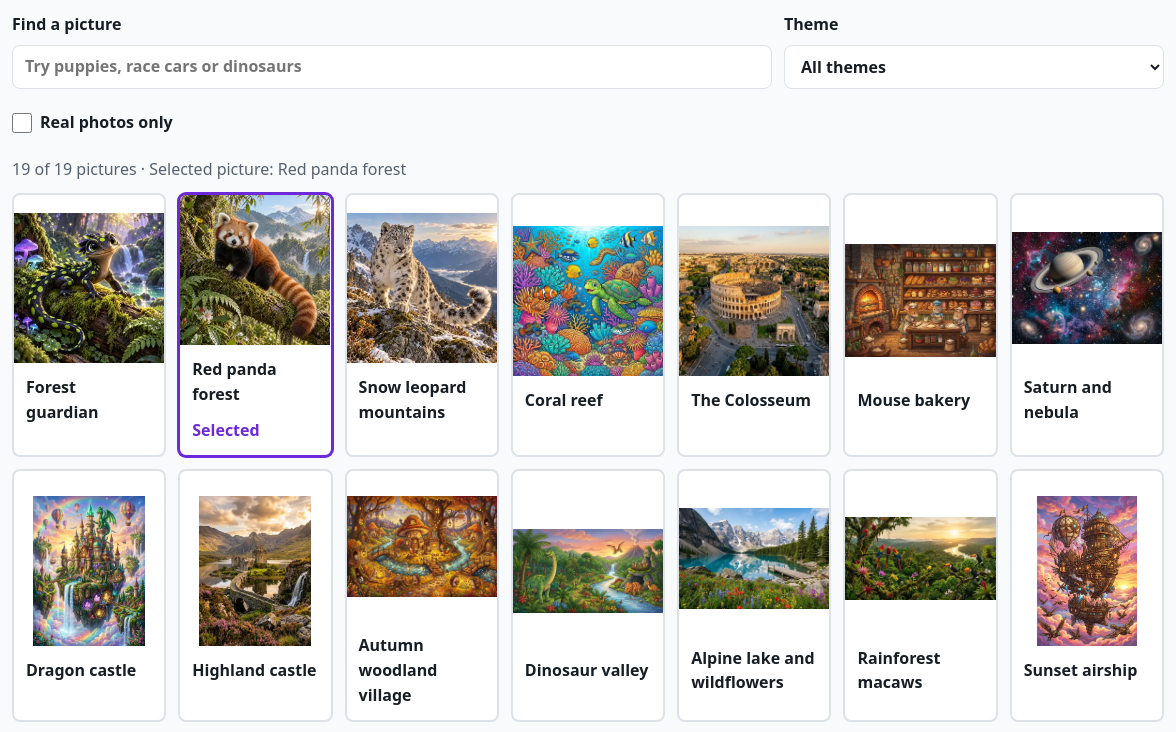
Test: combines theme and case-insensitive search without changing the chosen picture
Select "Animals" in the dropdown labelled "Theme". click: (974, 67)
box: top-left (784, 45), bottom-right (1164, 89)
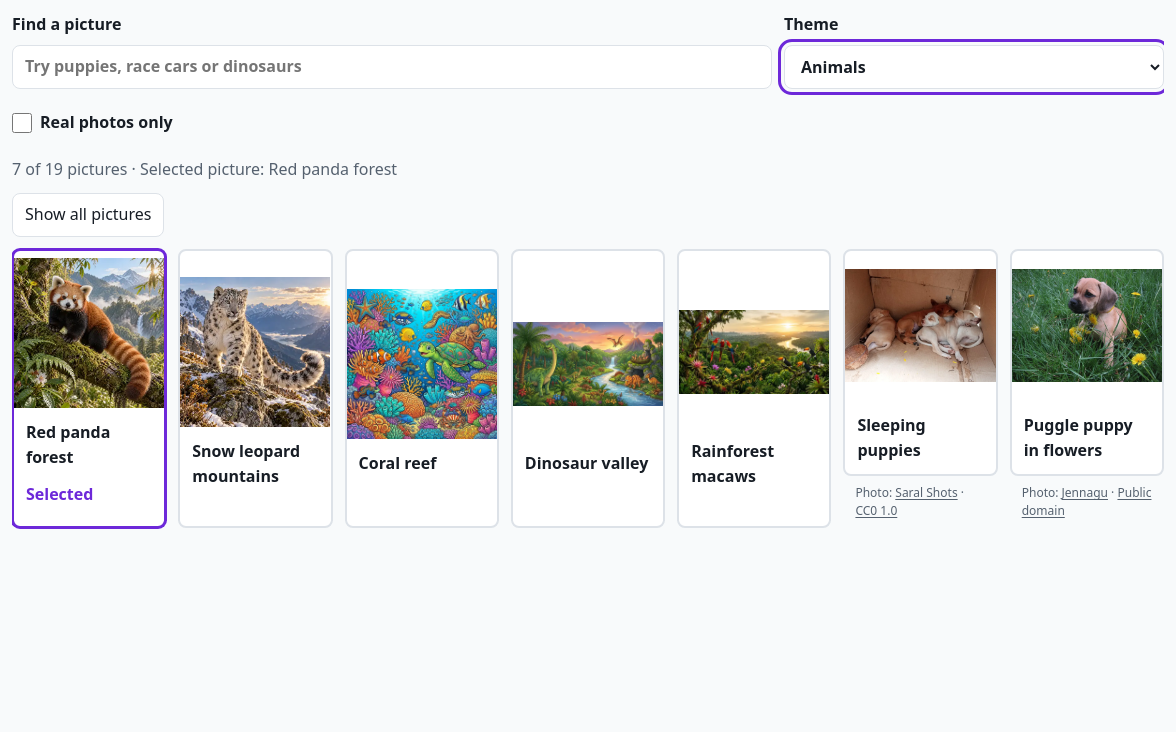
Type "  DINOSAUR  " into the search field labelled "Find a picture". click: (392, 67)
box: top-left (12, 45), bottom-right (772, 89)
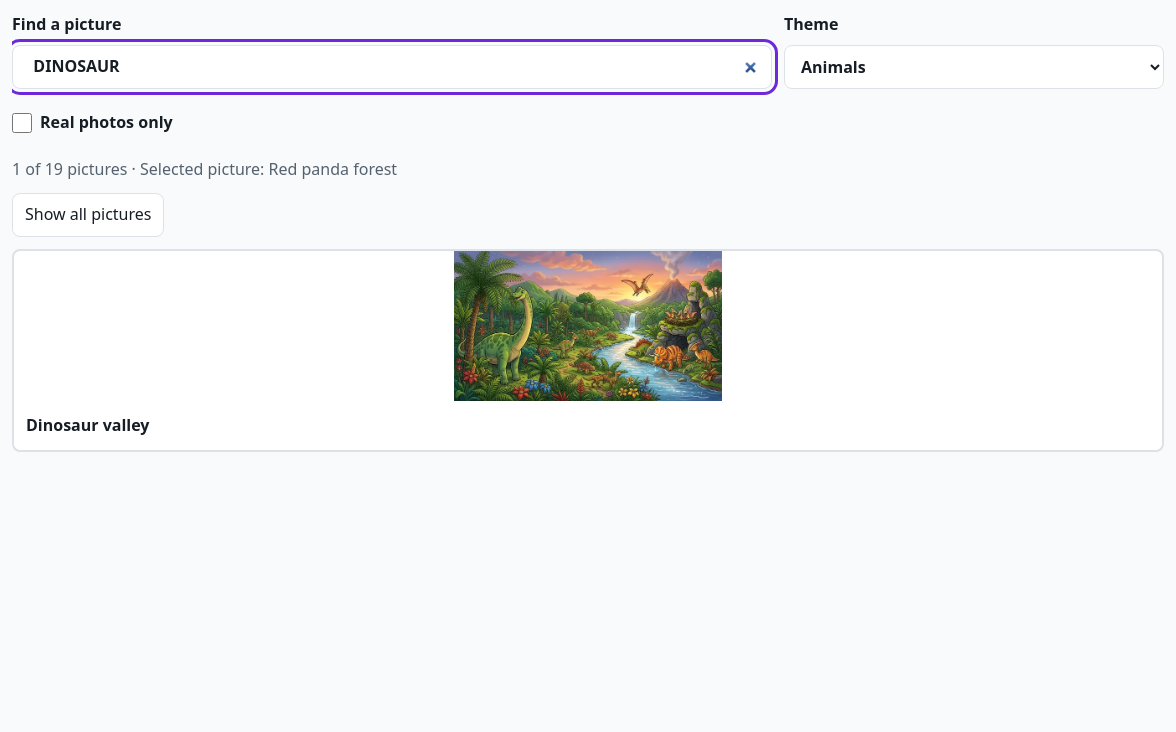
Expected: the text "1 of 19 pictures · Selected picture: Red panda forest" is shown, top-left (12, 158), bottom-right (397, 180)
Result: the number of buttons named "Choose " is 1 at top-left (12, 249), bottom-right (1164, 452)
Select "Space" in the dropdown labelled "Theme". click: (974, 67)
box: top-left (784, 45), bottom-right (1164, 89)
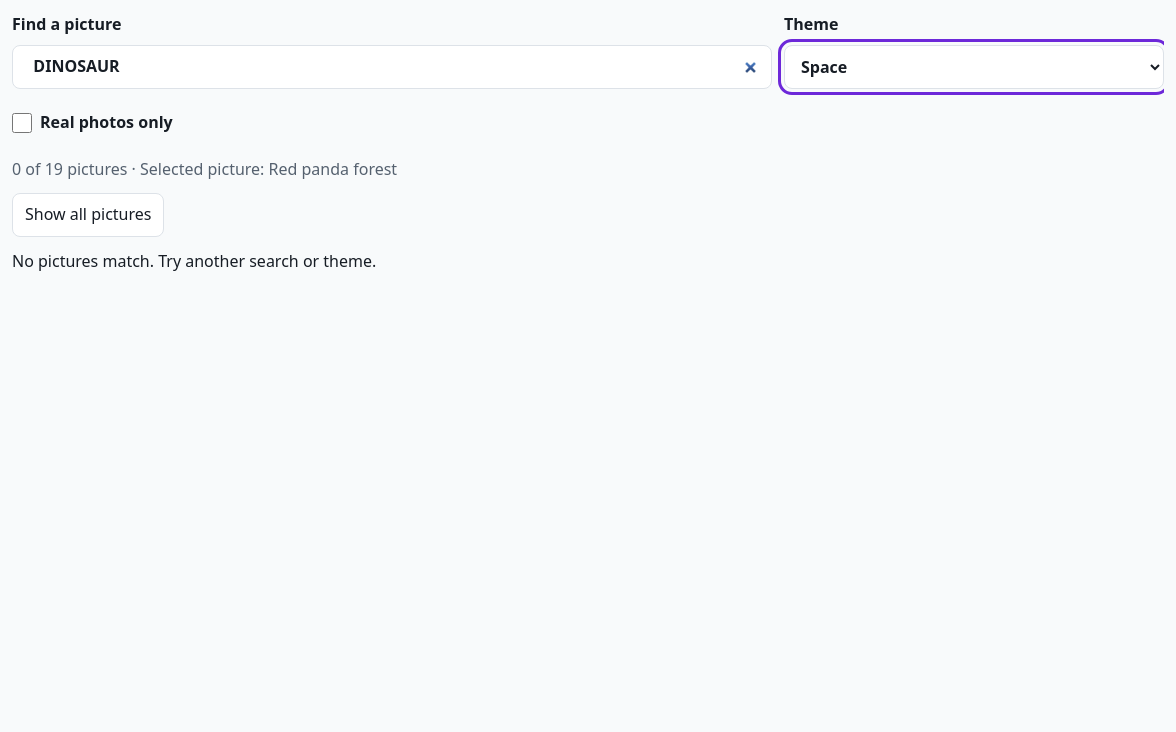
Result: the text "No pictures match. Try another search or theme." is shown at top-left (12, 250), bottom-right (376, 272)
Click the button "Show all pictures". click: (88, 215)
box: top-left (12, 193), bottom-right (164, 237)
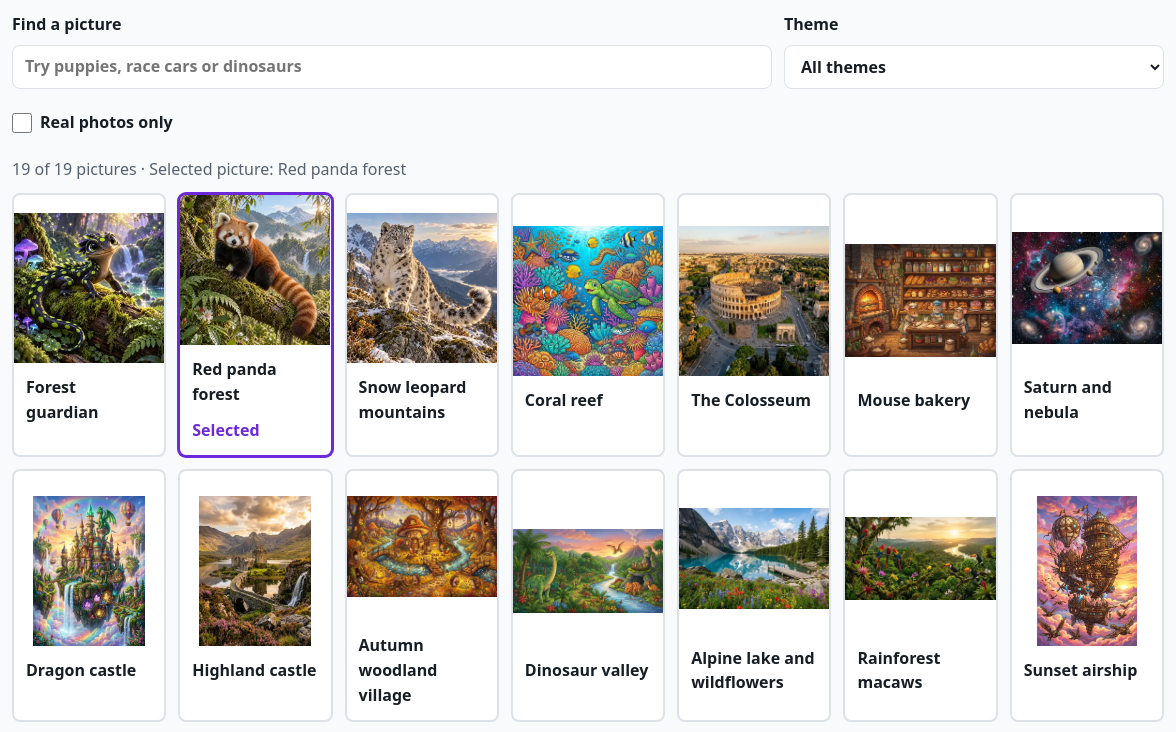
Result: the number of buttons named "Choose " is 19
